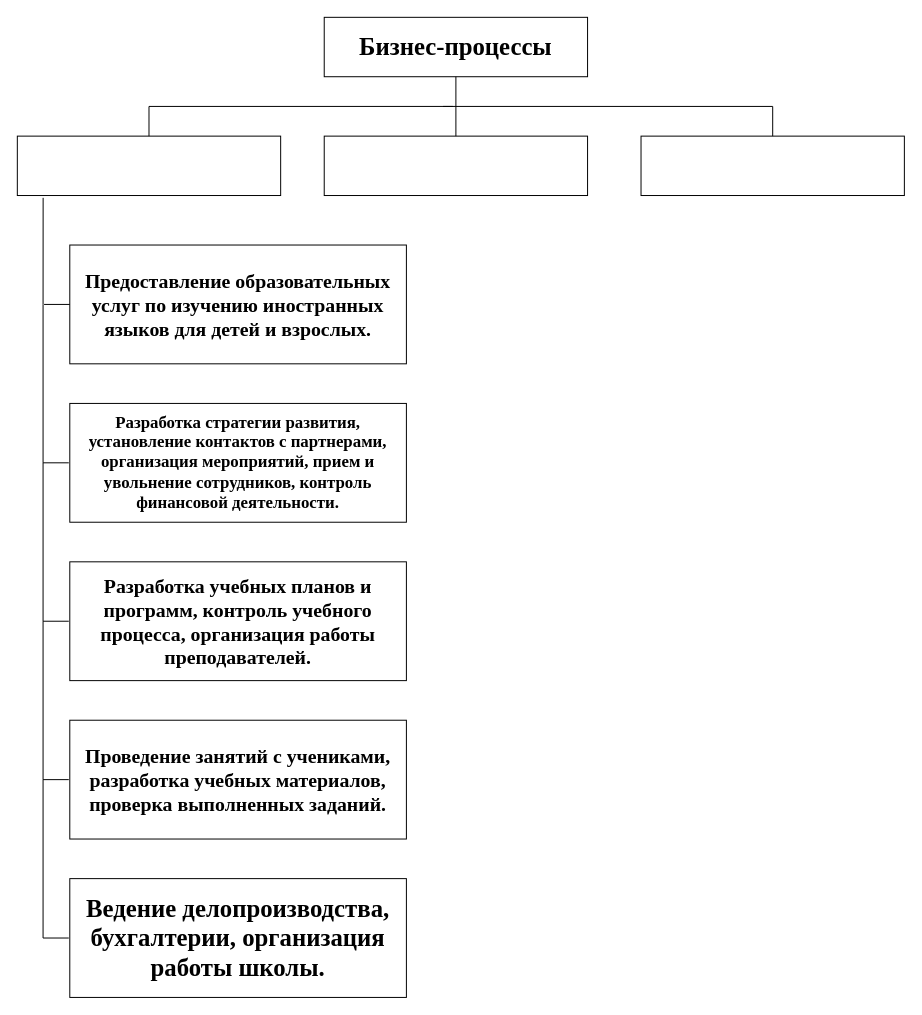
Image size: 922x1015. Some labels were removed from this diagram. The centre of each missing label's shape, as x and y in pixels:
Бизнес-процессы обеспечения: the point at 455,165
Бизнес-процессы управления: the point at 772,165
Основные бизнес-процессы: the point at 148,165
